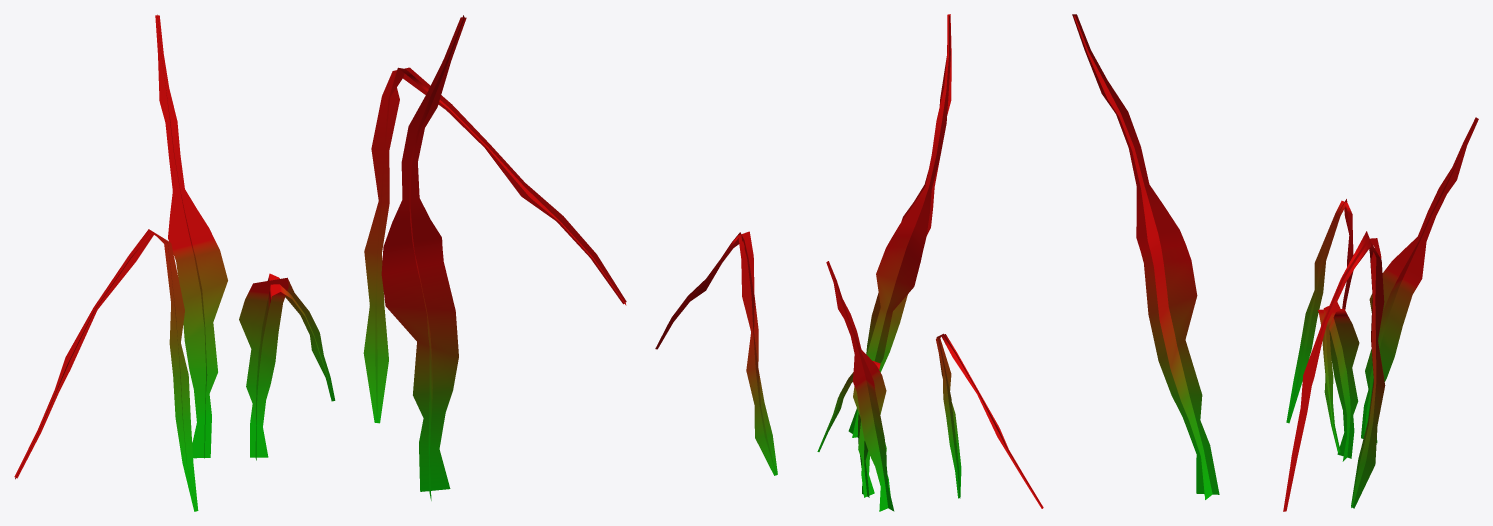
Rendered from White Everlasting_LOD0_Var10_ucvobbbia.fbx.
The picture shows the model from 3 angles, left to right: view 1: azimuth 30°, elevation 25°; view 2: azimuth 150°, elevation 25°; view 3: azimuth 270°, elevation 25°; orthographic projection. The views are drawn at different scales.
Parts seen in each view (by area): view 1: _c579_Var10_LOD0; view 2: _c579_Var10_LOD0; view 3: _c579_Var10_LOD0.
Boxes of the visible parts, x1,y1,x2,y2 form: _c579_Var10_LOD0: [14, 14, 626, 511]; _c579_Var10_LOD0: [655, 14, 1043, 511]; _c579_Var10_LOD0: [1072, 14, 1478, 511].
Size of the model in its own units: 30.51 by 27.92 by 22.03.
